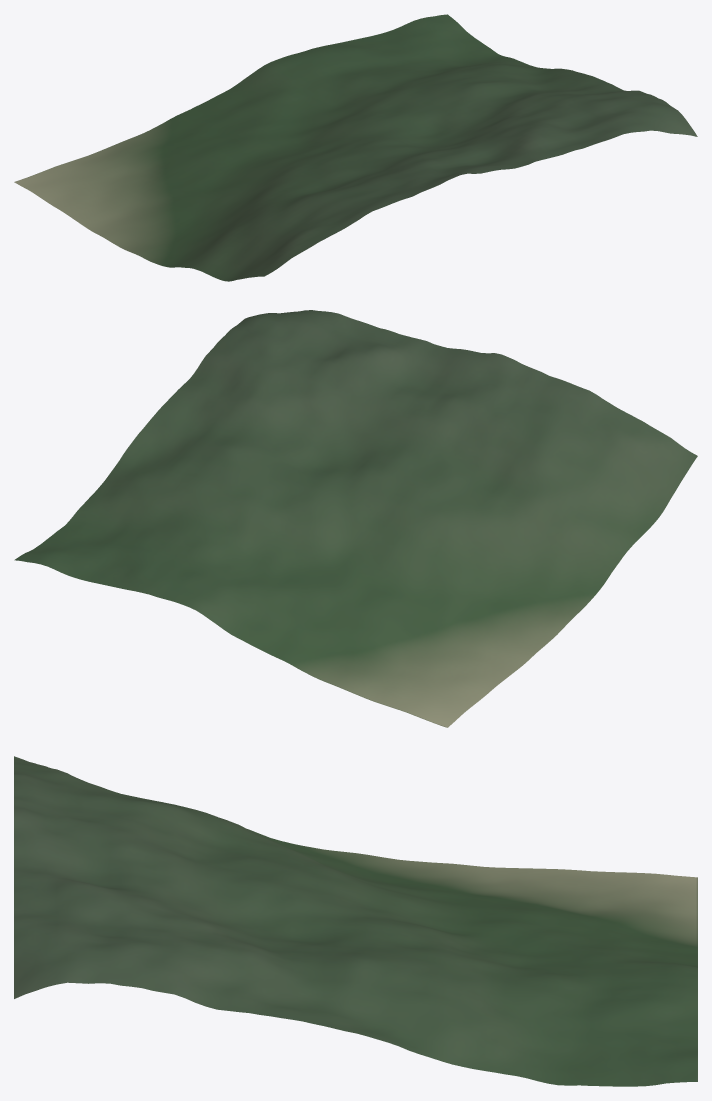
The model's file is chunk_0_2.obj.
3 views of the same model, one above another, from view 1: azimuth 30°, elevation 25°; view 2: azimuth 150°, elevation 25°; view 3: azimuth 270°, elevation 25° (orthographic). The views are drawn at different scales.
Parts seen in each view (by area): view 1: chunk_0_2.obj; view 2: chunk_0_2.obj; view 3: chunk_0_2.obj.
Part boxes in pixels (x1,y1,x2,y2): chunk_0_2.obj: [14, 14, 697, 281]; chunk_0_2.obj: [14, 310, 697, 727]; chunk_0_2.obj: [14, 756, 697, 1086].
Bounding box in the file's own units: 64 × 20.24 × 64.
1 material, 1 textured.
